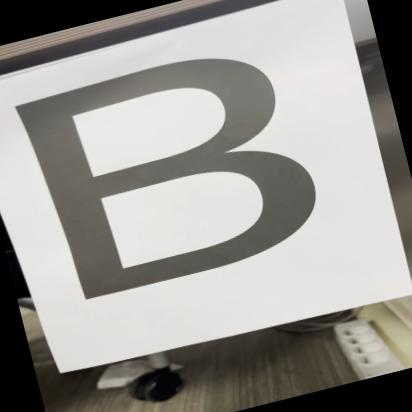seat: (0, 27, 348, 328)
